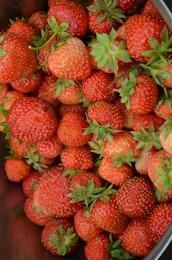Fresa: (6, 92, 59, 145), (120, 11, 172, 64), (45, 33, 95, 84), (113, 173, 158, 221), (43, 1, 91, 40), (38, 215, 80, 257), (55, 107, 96, 150), (121, 71, 159, 117), (85, 97, 128, 133), (66, 169, 105, 202)
